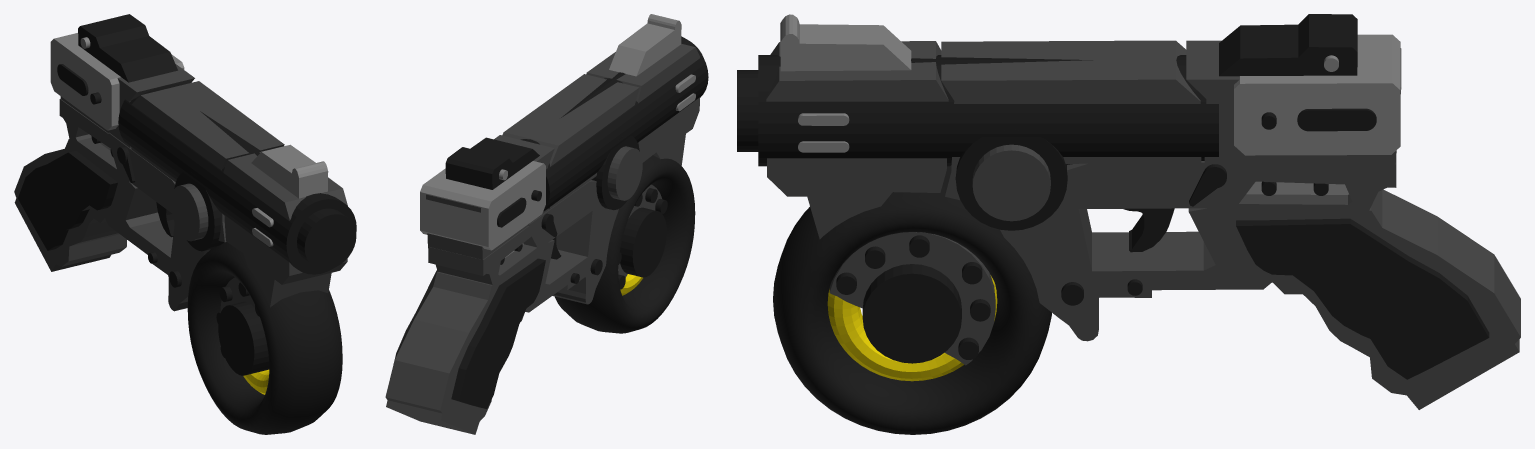
File: grapple gun.fbx
The picture shows the model from 3 angles, left to right: view 1: azimuth 30°, elevation 25°; view 2: azimuth 150°, elevation 25°; view 3: azimuth 270°, elevation 25°; orthographic projection. The views are drawn at different scales.
Parts seen in each view (by area): view 1: Torus, Cube.002, Cylinder.021, Cube.010, Cube, Cube.009, Cube.007, Cube.001, Cylinder.010, Cylinder.022, Cube.012, Cube.003 (+7 smaller); view 2: Cube.010, Cube.002, Torus, Cube.007, Cylinder.021, Cube, Cube.012, Cube.001, Cube.009, Cube.003, Cylinder.010, Cube.006 (+4 smaller); view 3: Torus, Cube.002, Cube.010, Cylinder.021, Cube, Cube.007, Cube.012, Cube.001, Cylinder.010, Cube.009, Cylinder.001, Cube.003 (+8 smaller).
Boxes of the visible parts, x1,y1,x2,y2 form: Torus: (187,242,342,434); Cube.002: (131,81,347,307); Cylinder.021: (118,84,356,274); Cube.010: (14,139,192,311); Cube: (18,150,117,250); Cube.009: (78,14,177,82); Cube.007: (50,33,184,130); Cube.001: (59,99,157,221); Cylinder.010: (218,301,269,375); Cylinder.022: (297,208,356,269); Cube.012: (108,132,210,275); Cube.003: (251,144,328,198); Cube.010: (385,243,608,434); Cube.002: (502,44,699,209); Torus: (555,155,695,333); Cube.007: (420,161,545,250); Cylinder.021: (520,36,708,211); Cube: (394,258,545,408); Cube.012: (523,180,618,259); Cube.001: (428,221,554,285); Cube.009: (445,137,539,189); Cube.003: (609,14,681,76); Cylinder.010: (620,207,666,277); Cube.006: (426,135,554,259); Torus: (773,177,1051,434); Cube.002: (766,40,1201,239); Cube.010: (1030,189,1520,409); Cylinder.021: (758,55,1218,166); Cube: (1236,218,1489,379); Cube.007: (1234,34,1400,155); Cube.012: (1000,161,1261,275); Cube.001: (1188,158,1396,268); Cylinder.010: (862,264,961,363); Cube.009: (1219,14,1357,76); Cylinder.001: (829,232,995,365); Cube.003: (780,14,911,71).
Size of the model in its own units: 6 by 19.26 by 34.03.
